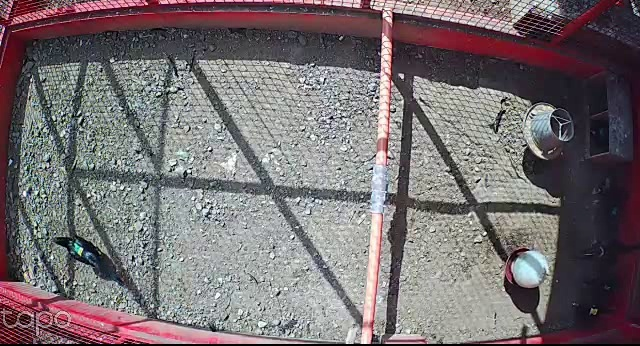Chicken: (49, 231, 113, 281)
Drinker: (504, 247, 550, 289)
Feeder: (521, 102, 574, 162)
Saddle_Color_Yellow: (590, 308, 598, 315)
Saddle_Color_YellowGreen: (72, 241, 84, 255)
